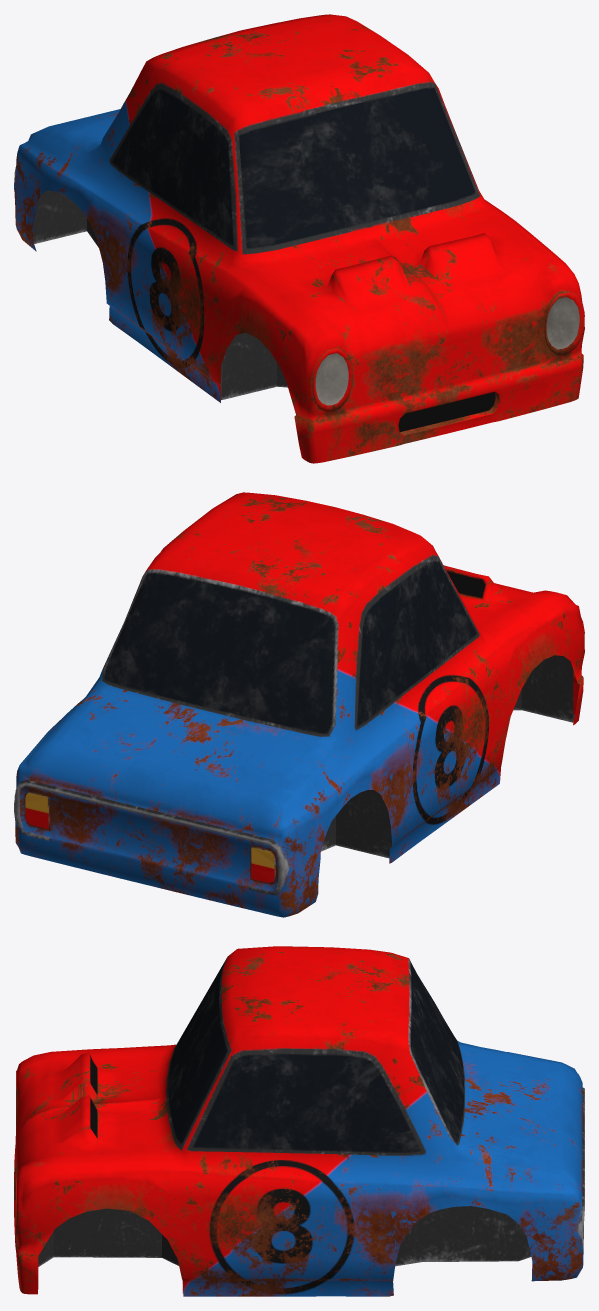
File: Car1_Fixed.fbx
3 renders of one model, top to bottom at view 1: azimuth 30°, elevation 25°; view 2: azimuth 150°, elevation 25°; view 3: azimuth 270°, elevation 25°, orthographic. The views are drawn at different scales.
Visible parts, largest first — view 1: chasis; view 2: chasis; view 3: chasis.
Part boxes in pixels (x1,y1,x2,y2): chasis: (14,14,584,463); chasis: (14,492,584,917); chasis: (14,946,584,1296).
Size of the model in its own units: 121 by 107 by 221.
Materials: 1 (1 with a texture image).
